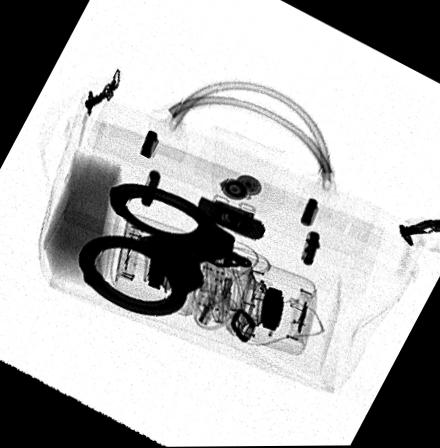HandCuffs: (79, 184, 253, 317)
